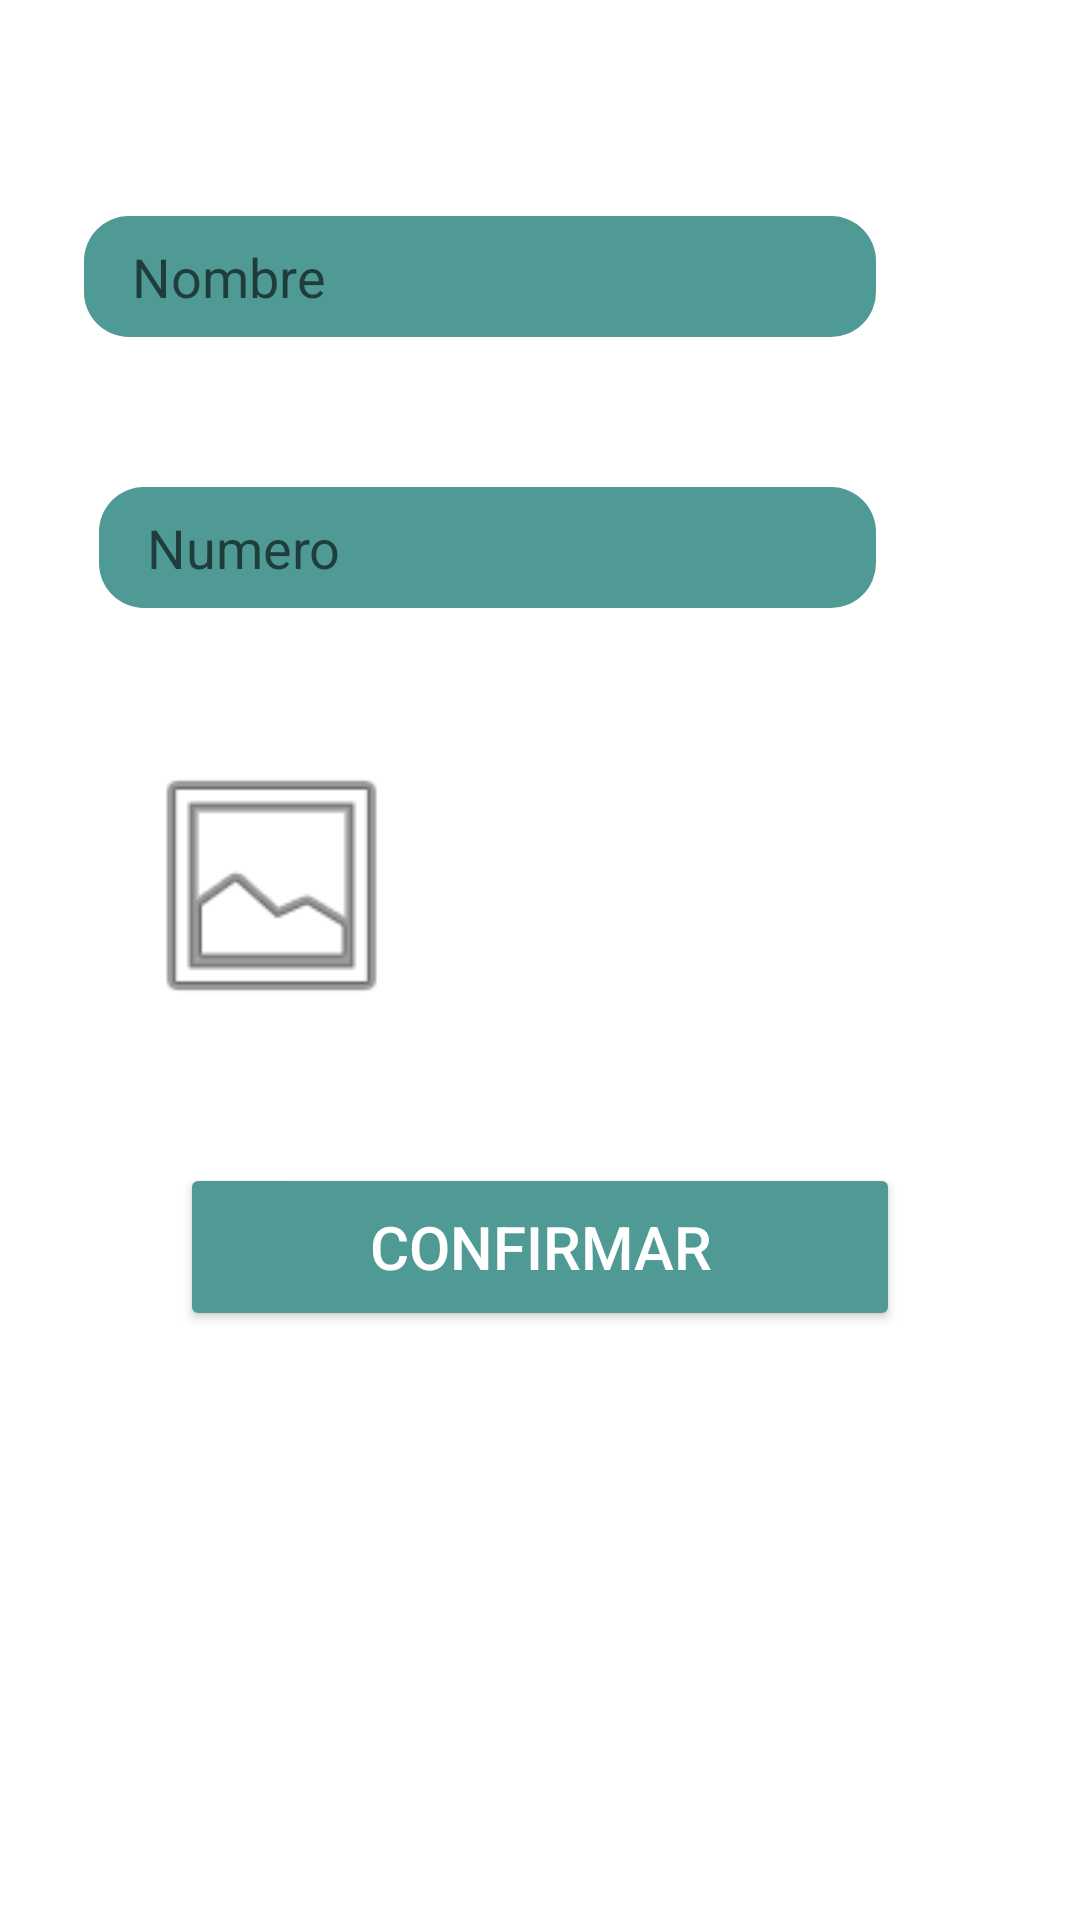

Where icons sit on this 1080 × 1920 app screen, as [x1, y1, x2, y2]:
gallery: [166, 780, 377, 991]
